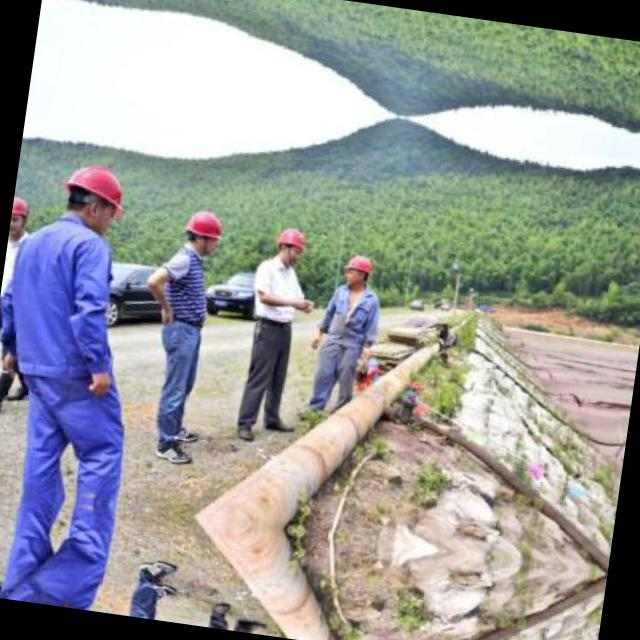helmet: (59, 157, 131, 236), (180, 206, 228, 258), (271, 224, 309, 268), (340, 250, 376, 292), (10, 193, 32, 236)
